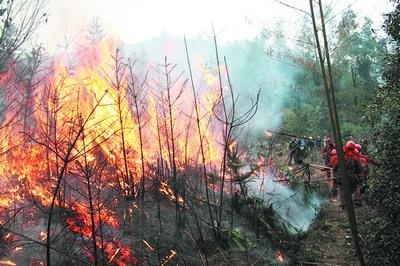fire: (4, 33, 252, 247), (275, 249, 284, 260)
